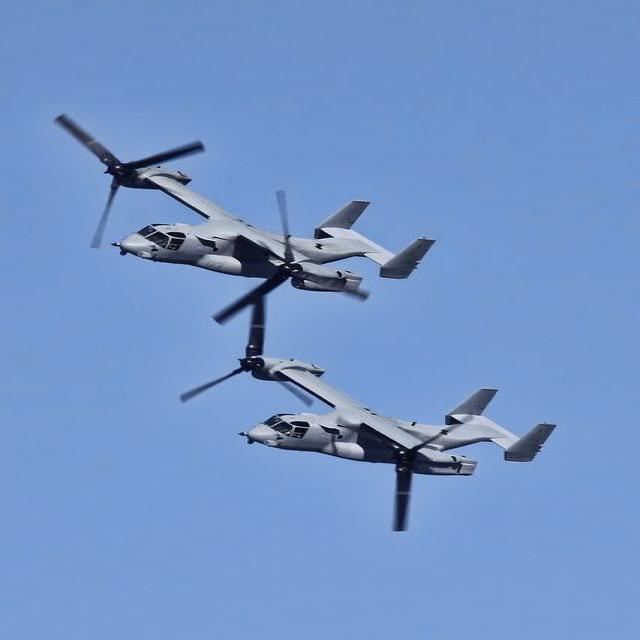iha: (103, 159, 439, 353), (236, 354, 559, 537)
